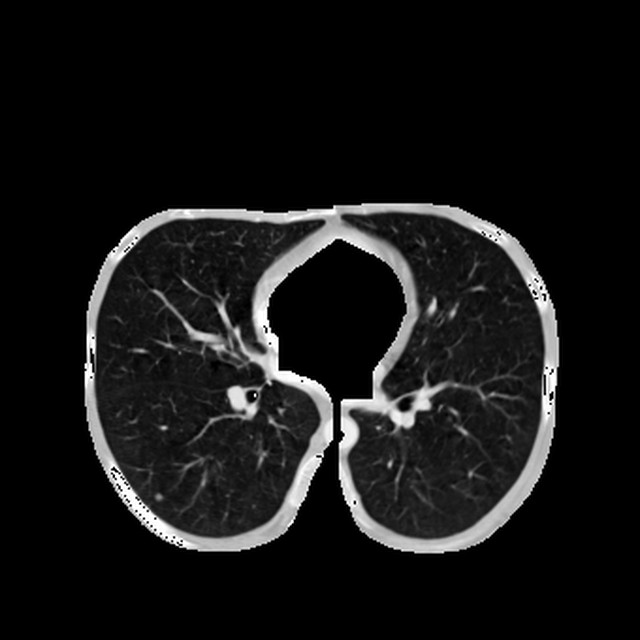PN: (154, 493, 162, 501)
